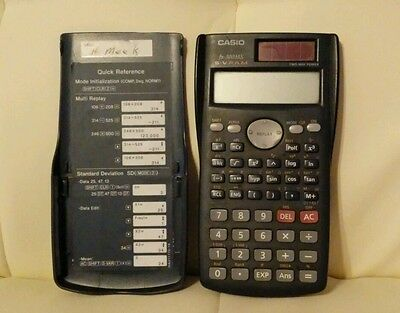Calculator: (190, 30, 342, 301)
